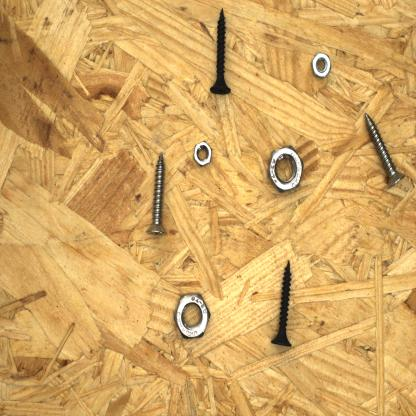screw: (360, 107, 409, 193), (263, 256, 298, 349), (206, 4, 235, 100), (144, 148, 170, 241)
